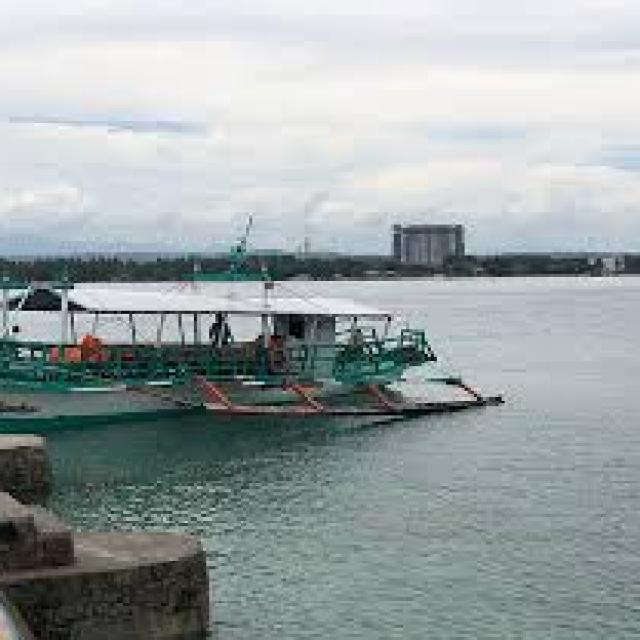houseboat: (0, 212, 483, 434)
